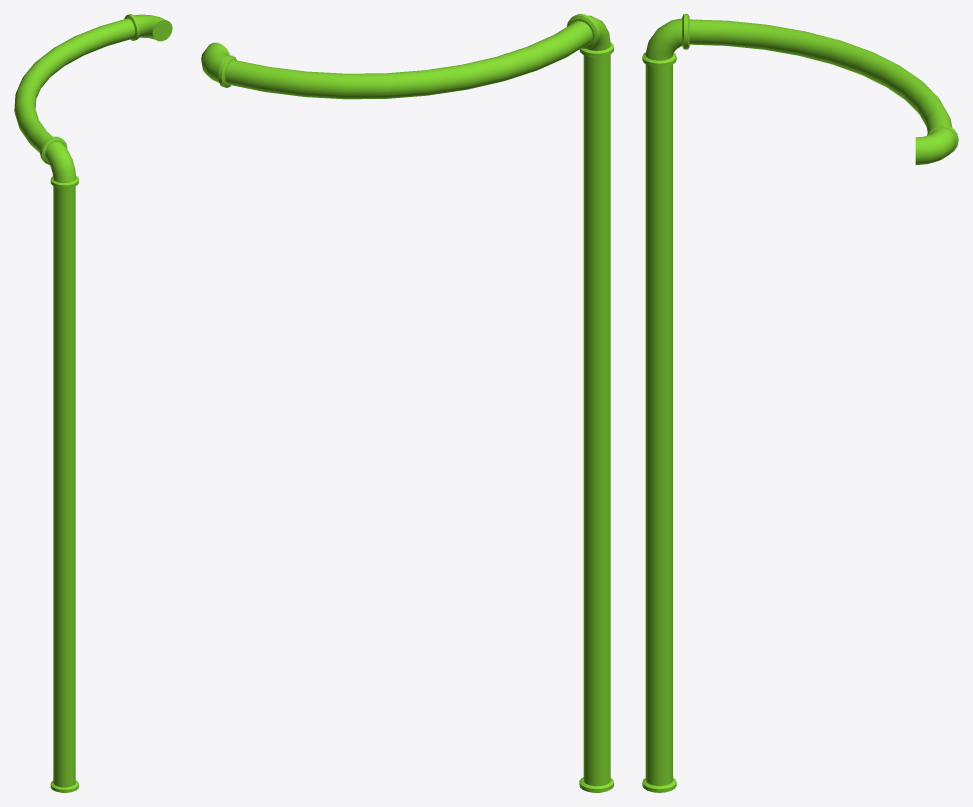
Rendered from Tank_Pipe_03_Lod0.fbx.
The picture shows the model from 3 angles, left to right: view 1: azimuth 30°, elevation 25°; view 2: azimuth 150°, elevation 25°; view 3: azimuth 270°, elevation 25°; orthographic projection. The views are drawn at different scales.
Parts seen in each view (by area): view 1: Tank_Pipe_03_Lod0; view 2: Tank_Pipe_03_Lod0; view 3: Tank_Pipe_03_Lod0.
Boxes of the visible parts, box(x1,y1,x2,y2) form: Tank_Pipe_03_Lod0: box(14, 14, 172, 792); Tank_Pipe_03_Lod0: box(201, 14, 613, 792); Tank_Pipe_03_Lod0: box(642, 14, 958, 792).
Size of the model in its own units: 1090 by 2944 by 1094.
